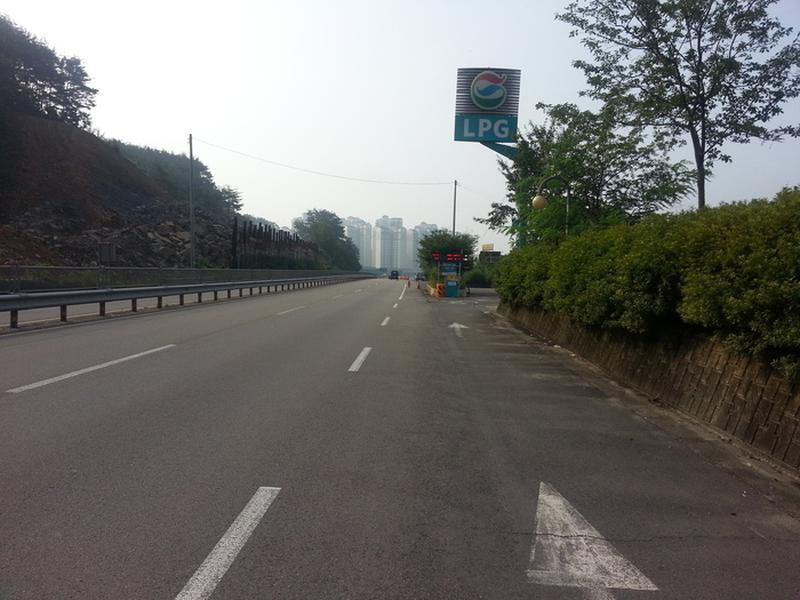lane: (196, 483, 275, 592), (17, 342, 175, 395), (348, 346, 371, 374), (381, 317, 389, 327)
